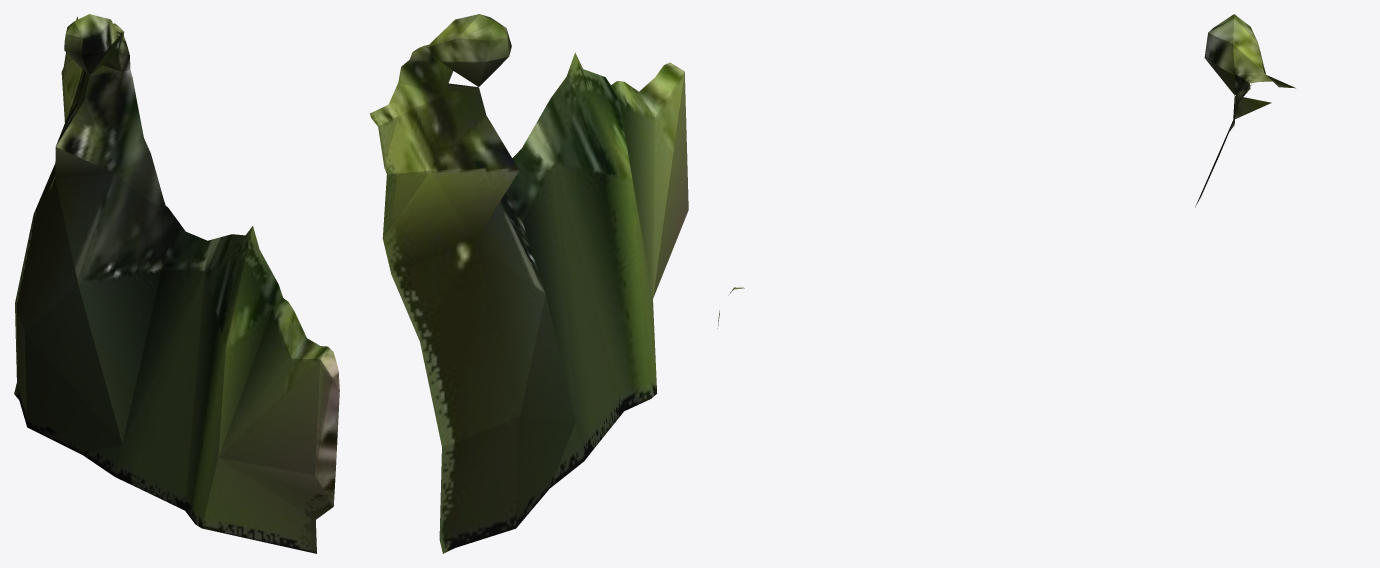
The picture shows the model from 3 angles, left to right: view 1: azimuth 30°, elevation 25°; view 2: azimuth 150°, elevation 25°; view 3: azimuth 270°, elevation 25°; orthographic projection. The views are drawn at different scales.
Bounding box in the file's own units: 0.2555 × 1.11 × 1.28.
1 material, 1 textured.
